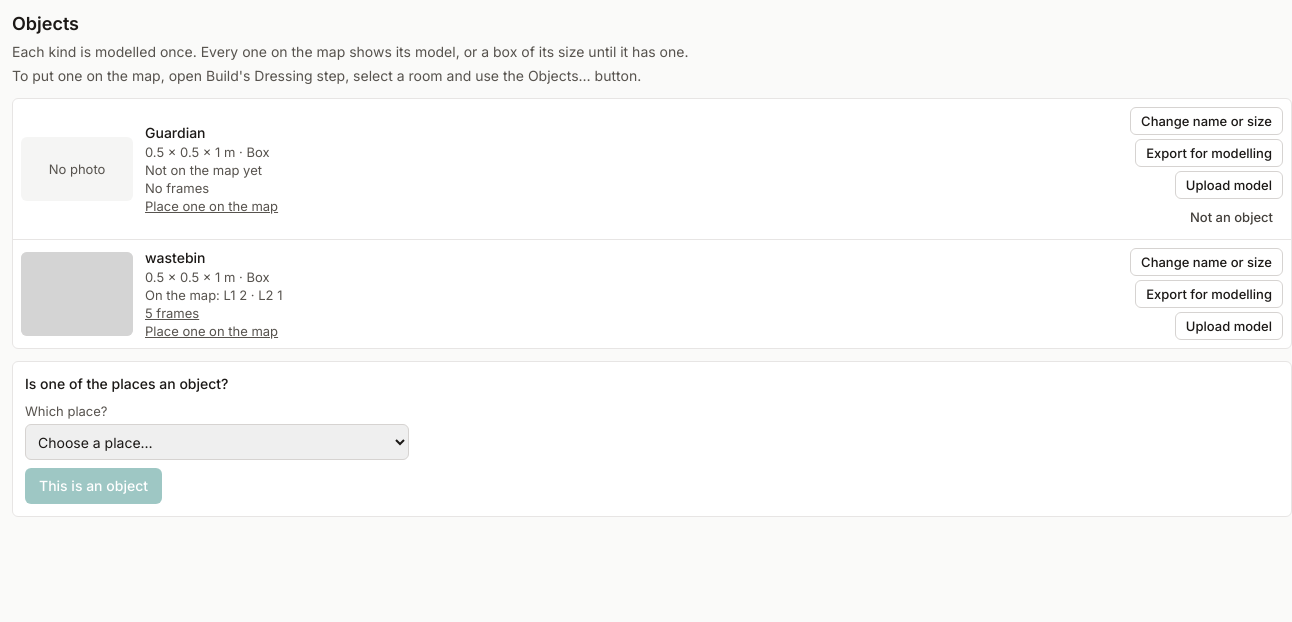
Test: ObjectsSection › refuses a name another kind has, compared as the survey compares names, and sends nothing
Click the button with aria-label "Change the name or size of wastebin". click: (1207, 262)
box: 1130,248 -> 1283,276
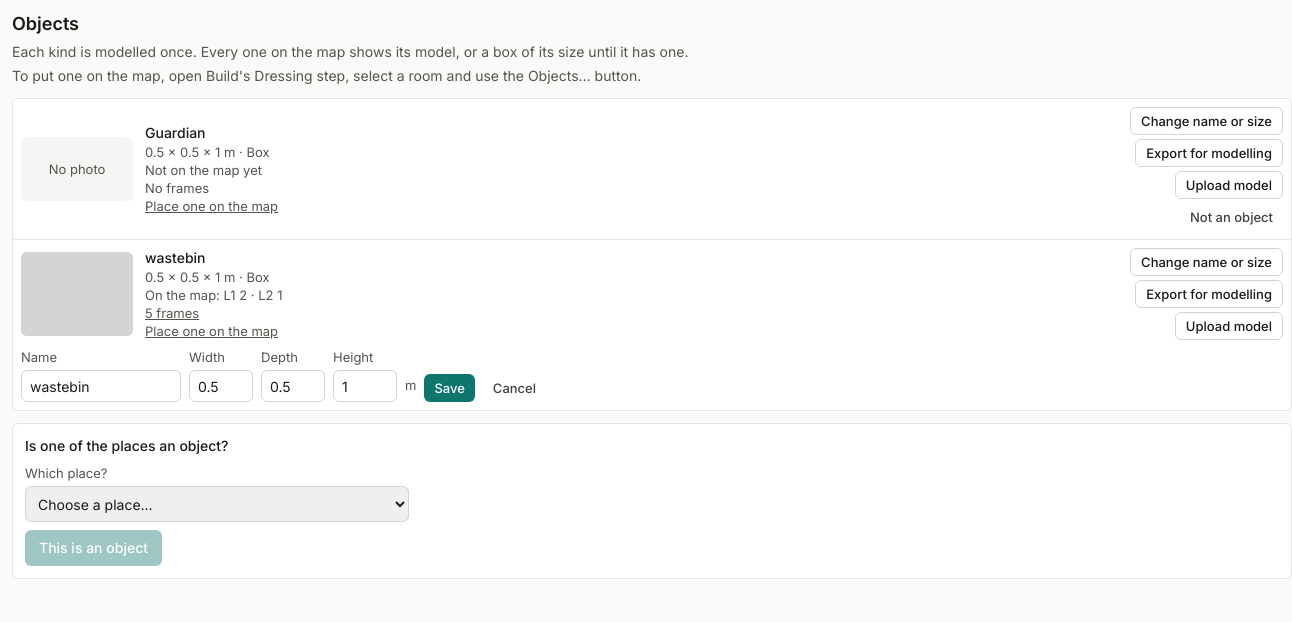
Replace the text in the field labelled "Name" with "  guardian ". click: (101, 386)
box: 21,370 -> 181,402
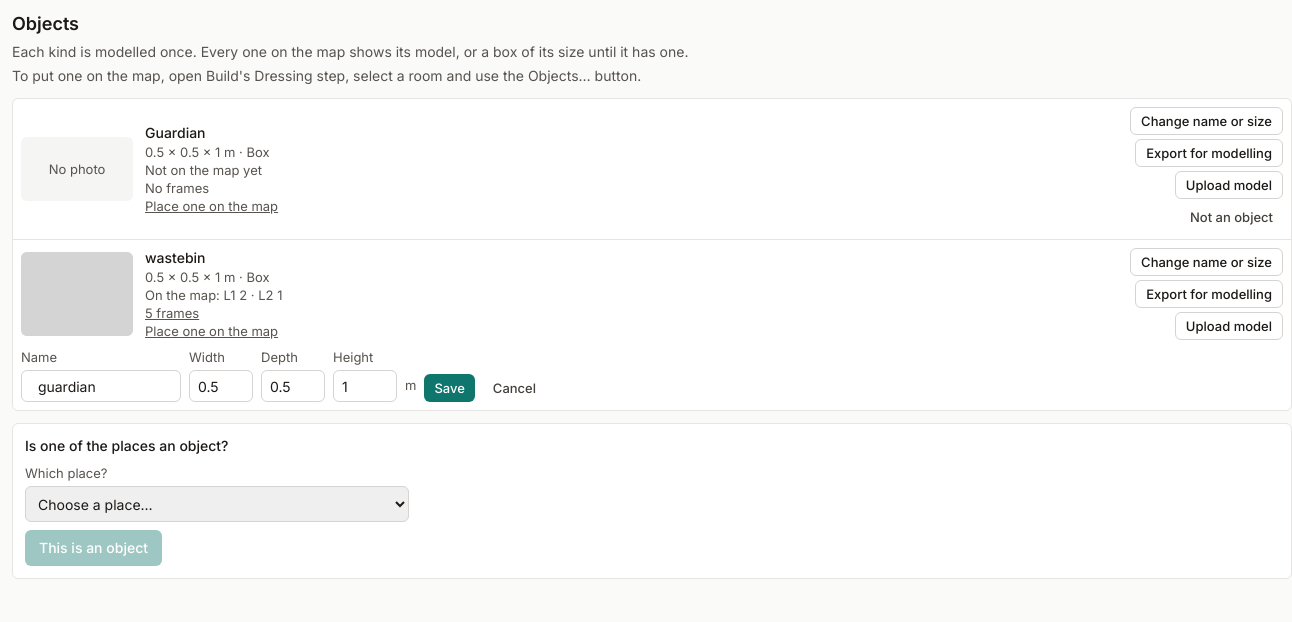
Click the button "Save". click: (450, 388)
box: 424,374 -> 475,402
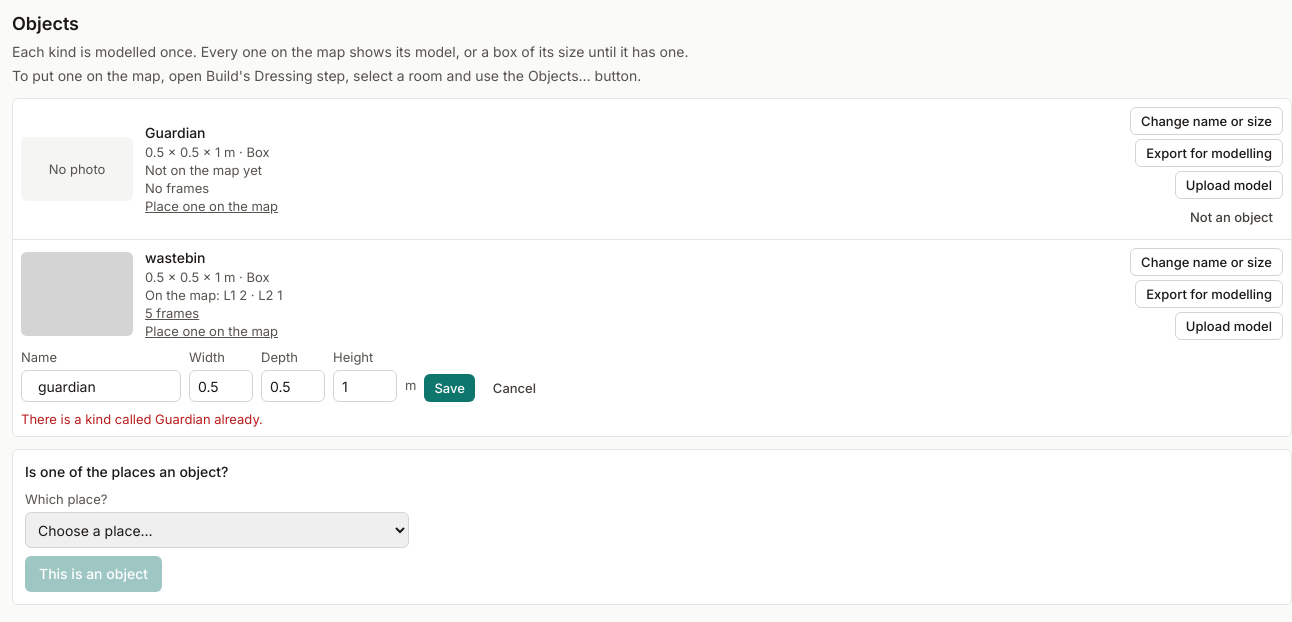
Result: the message reads "There is a kind called Guardian already." at 21,411 -> 263,427
